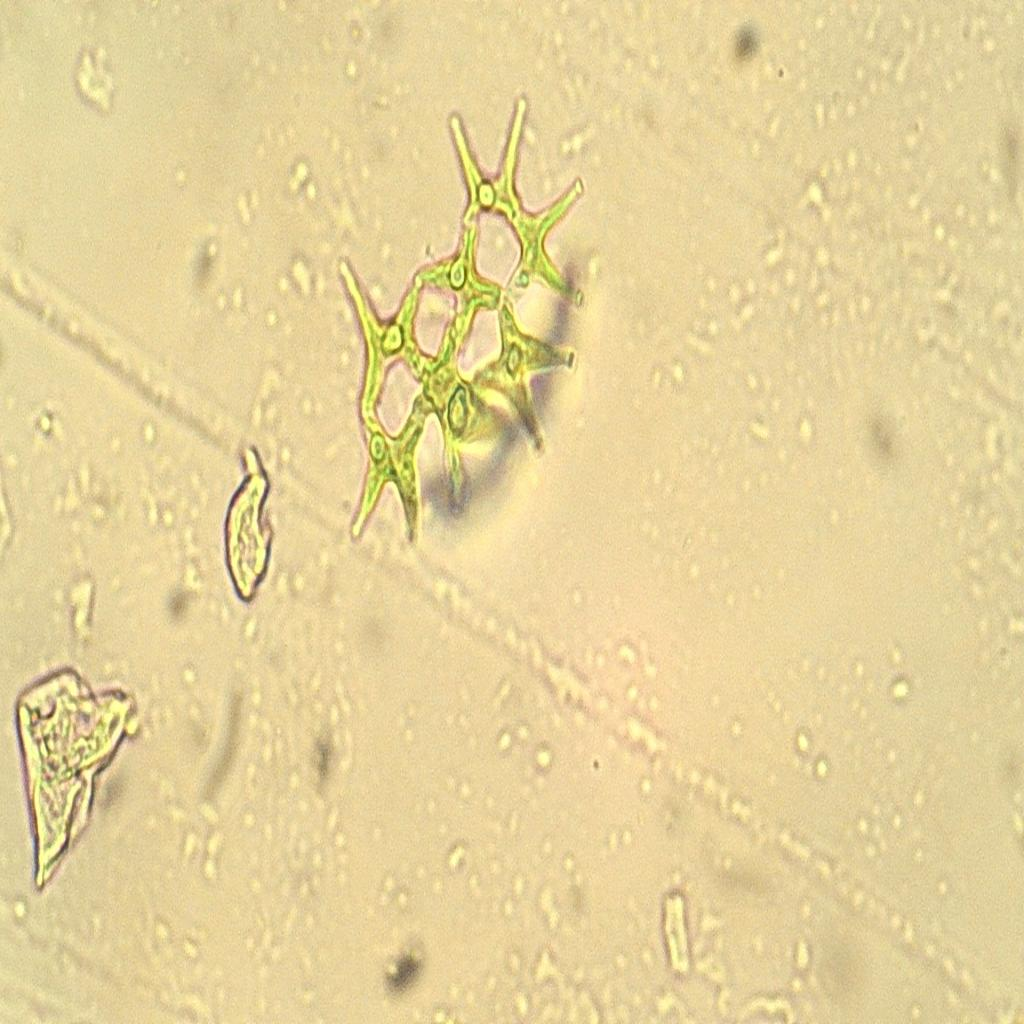Pediastrum_1TH: (335, 93, 593, 577)
